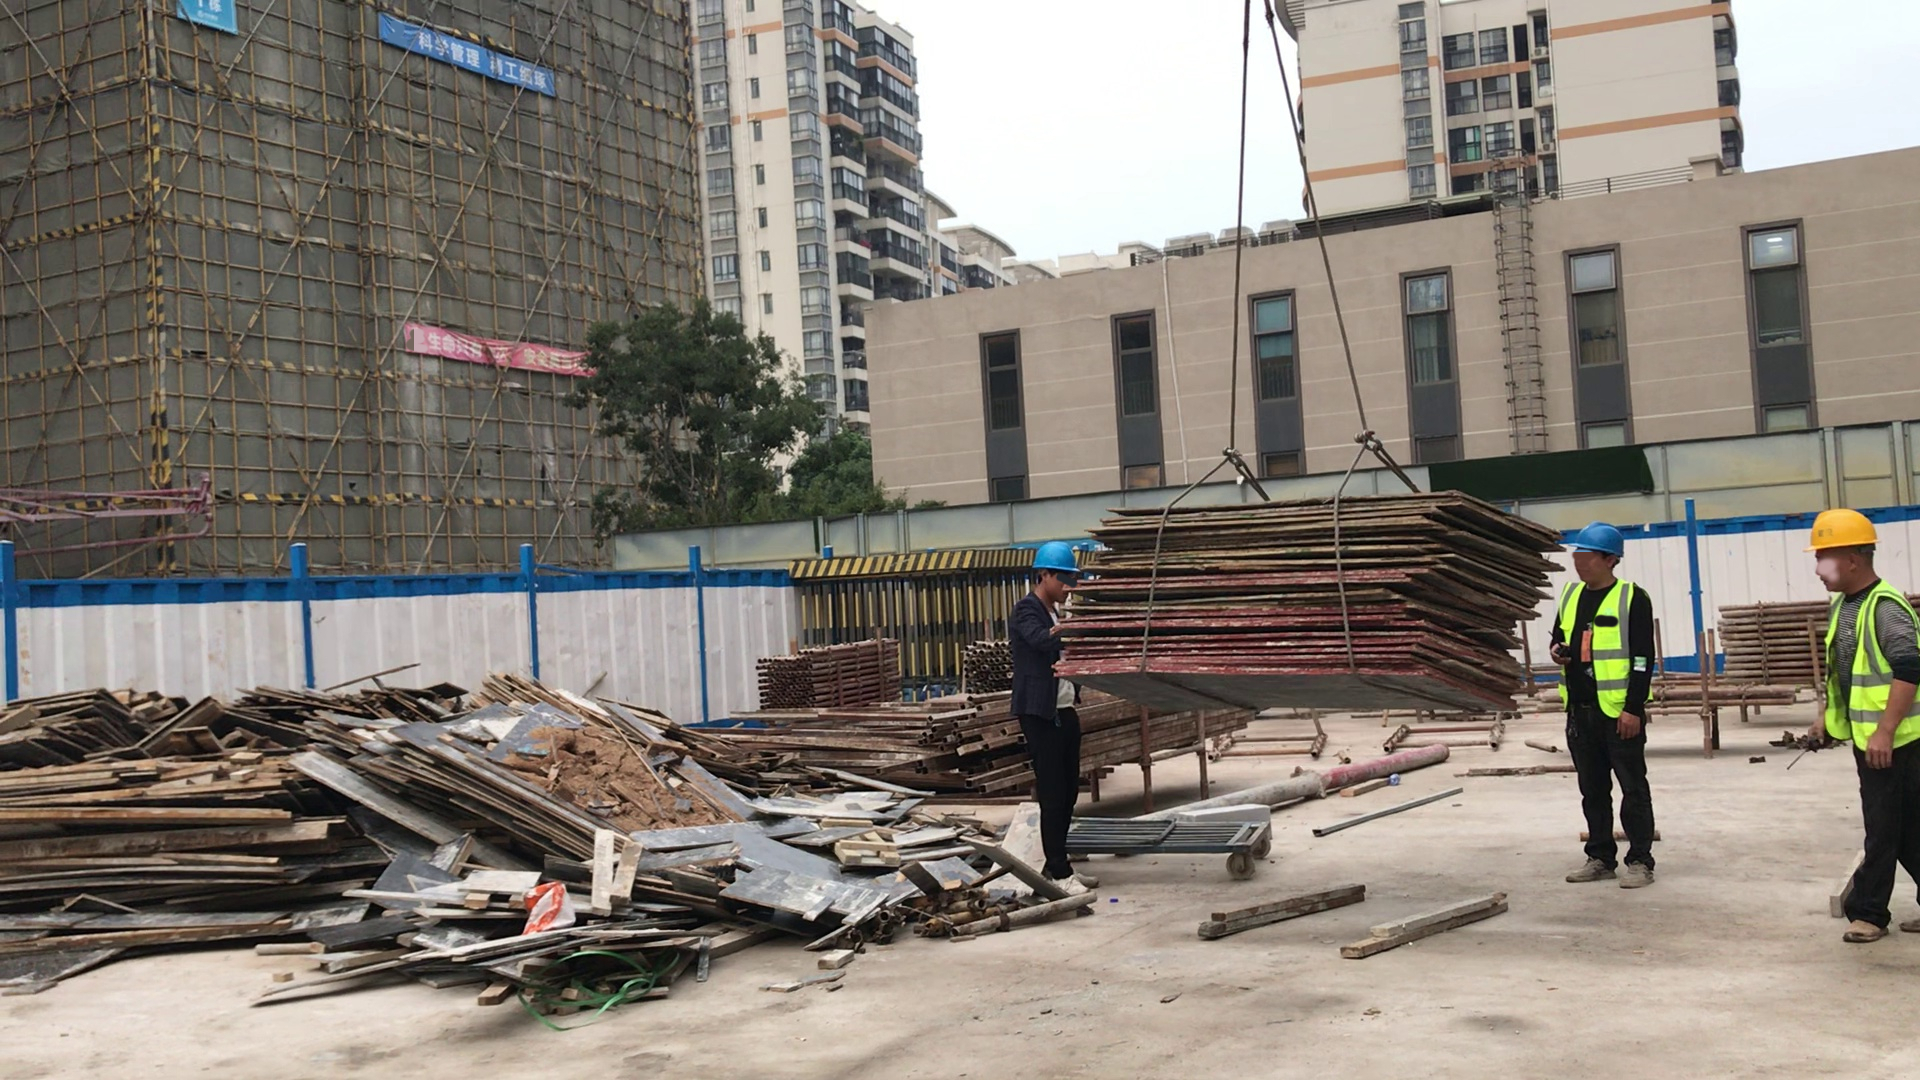board: (1047, 497, 1562, 719)
helmet: (1806, 508, 1884, 550), (1573, 525, 1626, 559), (1031, 541, 1079, 572)
person: (1803, 512, 1920, 948), (1563, 523, 1664, 894), (1000, 548, 1086, 893)
scaffold: (757, 638, 907, 705), (1717, 602, 1817, 690), (966, 642, 1015, 685)
slogan: (411, 21, 550, 93), (425, 327, 594, 376)
vest: (1821, 584, 1900, 750), (1565, 580, 1632, 717)
